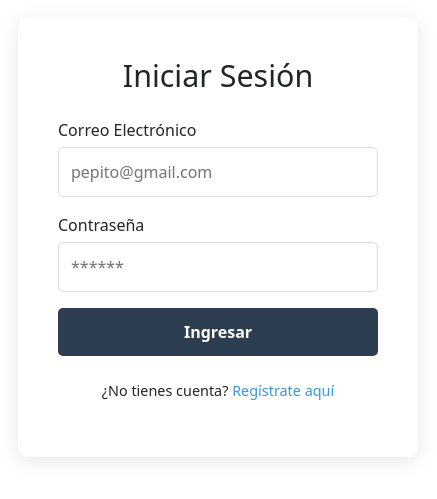
Scenario: Login › 4) Si falla el login: muestra error y NO navega
Step 1. Type "x@mail.com" into the field labelled "Correo Electrónico" → [218, 172], box [58,147,378,197]
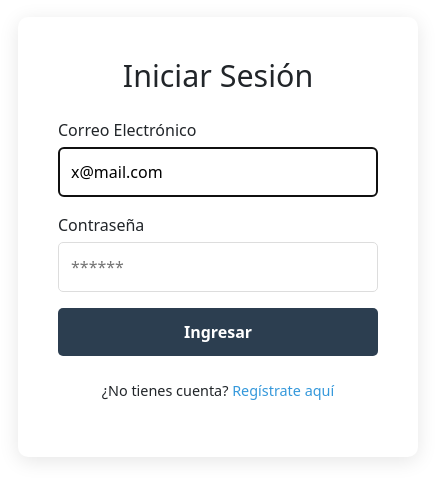
Step 2. Type "badpass" into the password field labelled "Contraseña" → [218, 267], box [58,242,378,292]
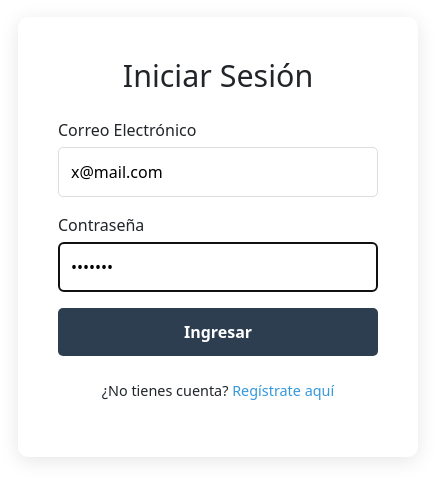
Step 3. Click the button "Ingresar" → [218, 332], box [58,308,378,356]
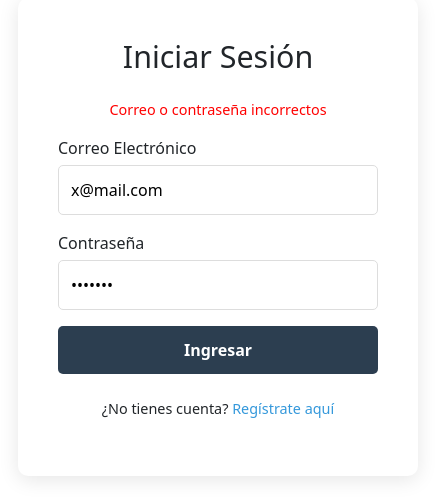
Expected: the text "Correo o contraseña incorrectos" is shown, [109,100,327,119]
